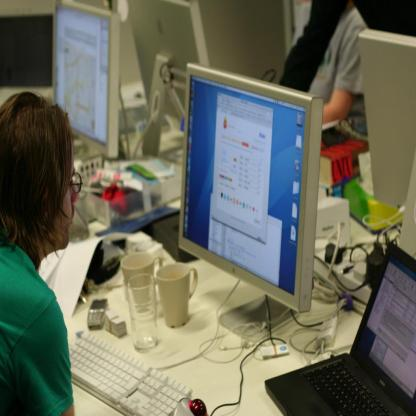board: (264, 242, 416, 416)
